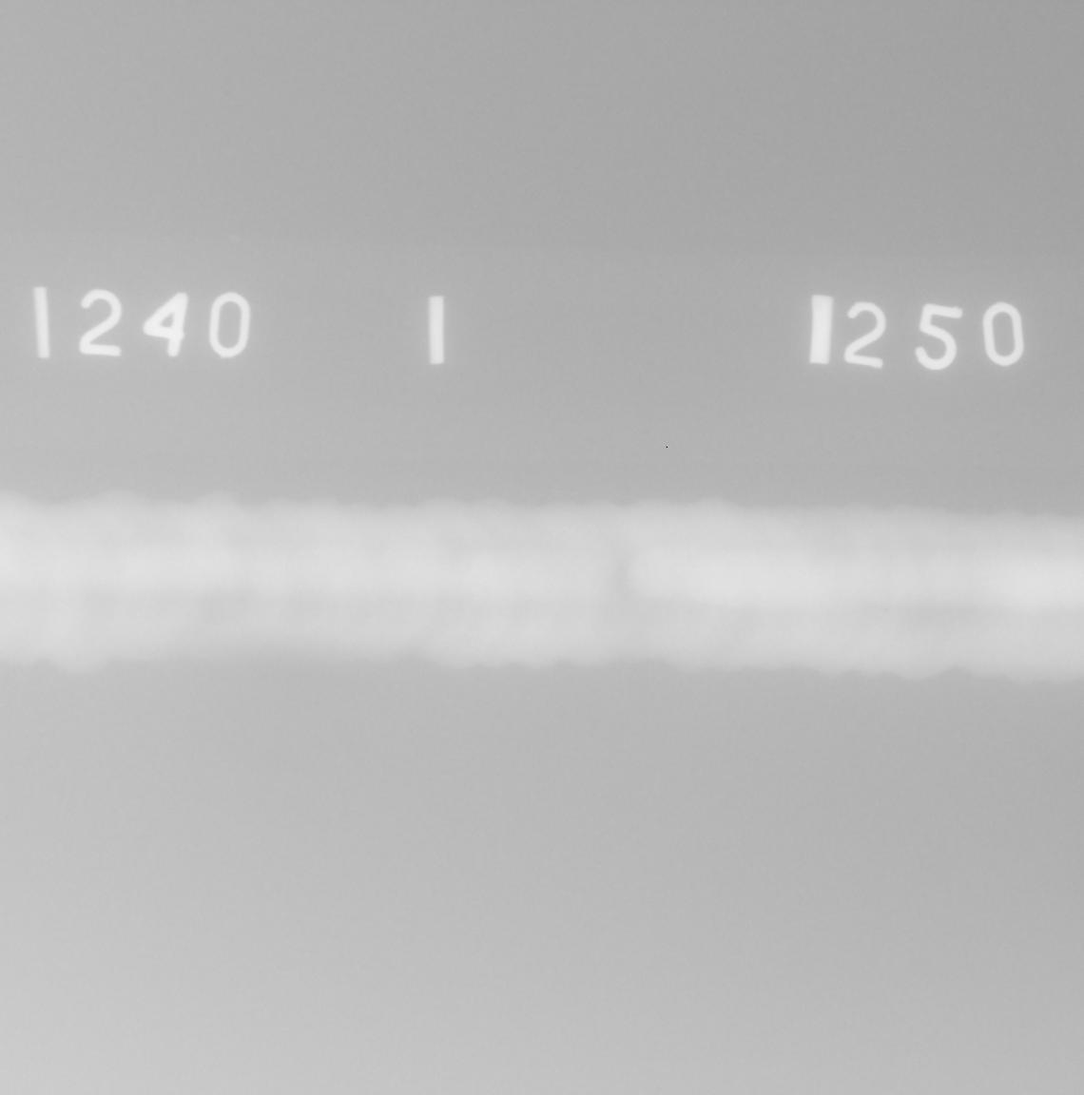Pore/Porosity: (884, 608, 888, 611)
